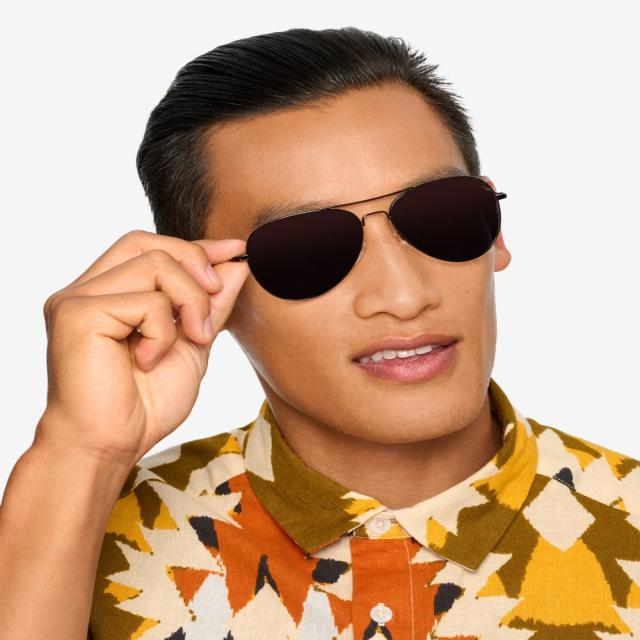2_gafas: (228, 174, 507, 302)
